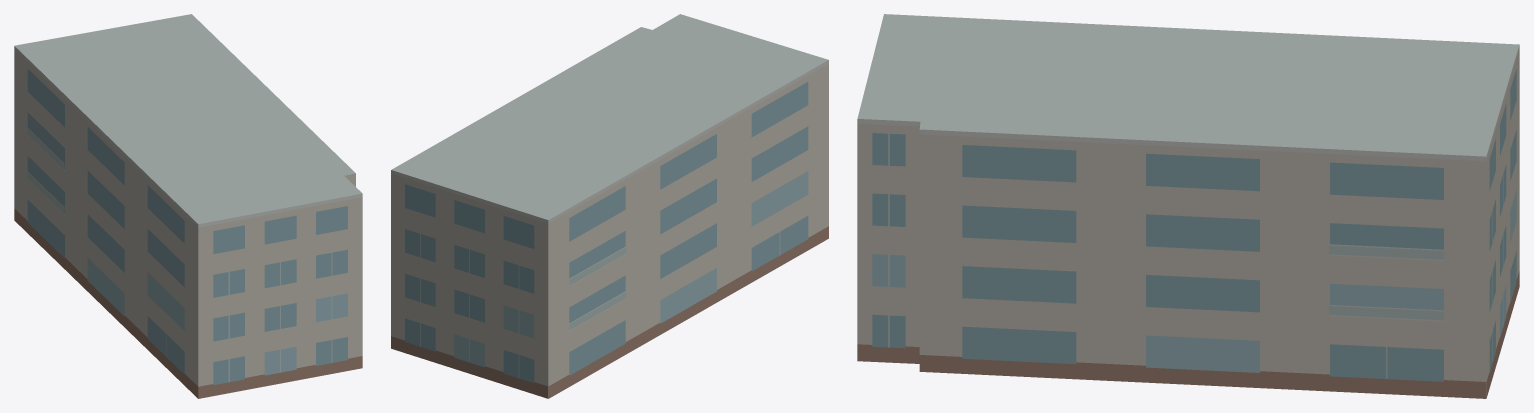
The model's file is survey-upis-32670749.glb.
3 renders of one model, left to right at view 1: azimuth 30°, elevation 25°; view 2: azimuth 150°, elevation 25°; view 3: azimuth 270°, elevation 25°, orthographic. The views are drawn at different scales.
Parts seen in each view (by area): view 1: survey-upis-32670749.tmp; view 2: survey-upis-32670749.tmp; view 3: survey-upis-32670749.tmp.
Boxes of the visible parts, bbox=[...] form: survey-upis-32670749.tmp: bbox=[14, 14, 362, 398]; survey-upis-32670749.tmp: bbox=[391, 14, 828, 398]; survey-upis-32670749.tmp: bbox=[857, 14, 1519, 398].
Size of the model in its own units: 15.41 by 12.2 by 30.22.
